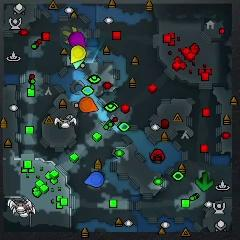p1: (85, 171, 104, 186)
p2: (74, 58, 83, 69)
p3: (69, 32, 86, 49)
p4: (71, 45, 85, 64)
p5: (79, 96, 98, 112)
x2: (62, 25, 77, 45)
x4: (197, 173, 212, 191)
